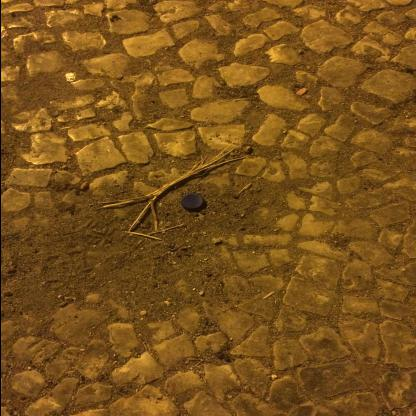plastik: (180, 193, 202, 209)
